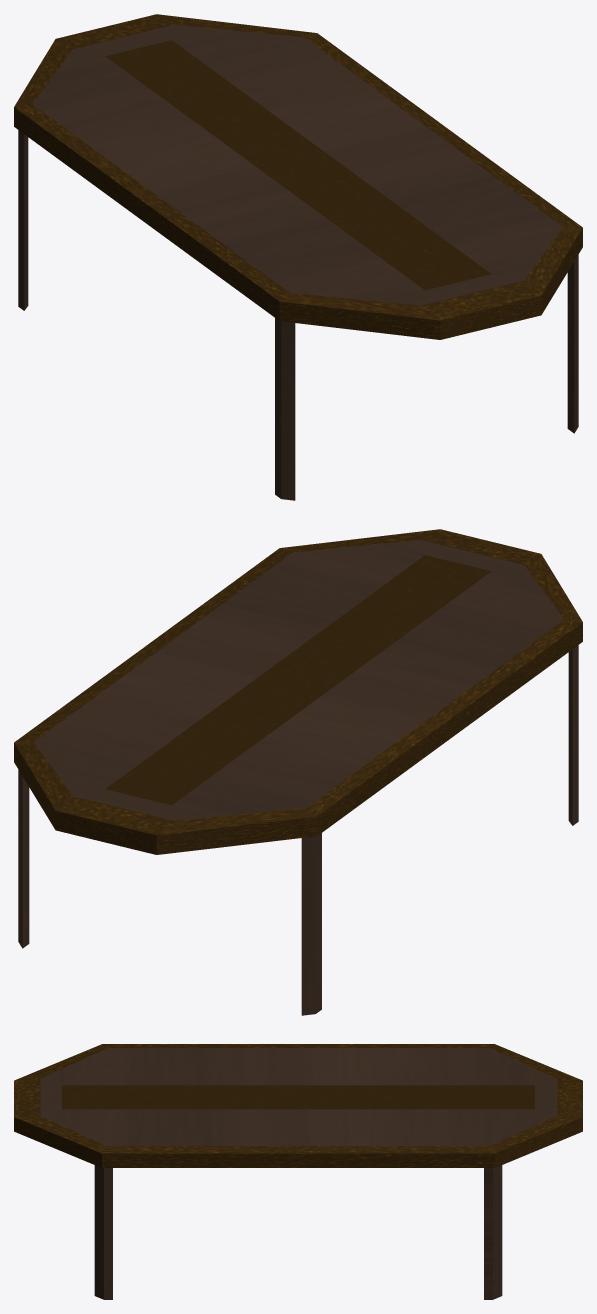
Rendered from GameJamTable.fbx.
The picture shows the model from 3 angles, top to bottom: view 1: azimuth 30°, elevation 25°; view 2: azimuth 150°, elevation 25°; view 3: azimuth 270°, elevation 25°; orthographic projection. The views are drawn at different scales.
Visible parts, largest first — view 1: Cube; view 2: Cube; view 3: Cube.
Part boxes in pixels (<box>): Cube: <box>14,14,582,500</box>; Cube: <box>14,529,582,1015</box>; Cube: <box>14,1044,582,1299</box>.
Size of the model in its own units: 337 by 214 by 740.
2 materials, 2 textured.
